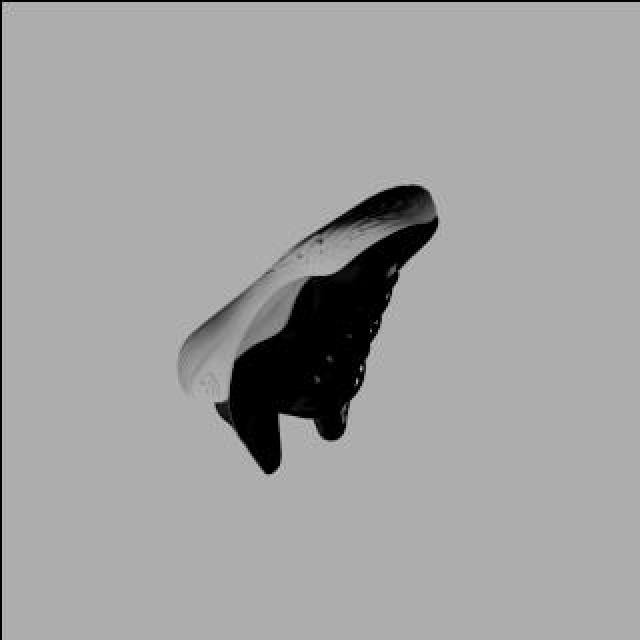shoe: (173, 184, 441, 472)
